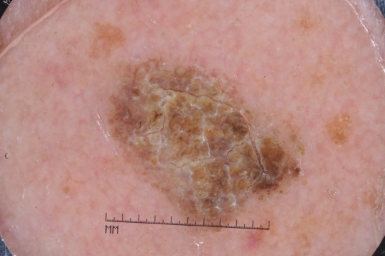seborrheic keratosis: (93, 49, 315, 211)
